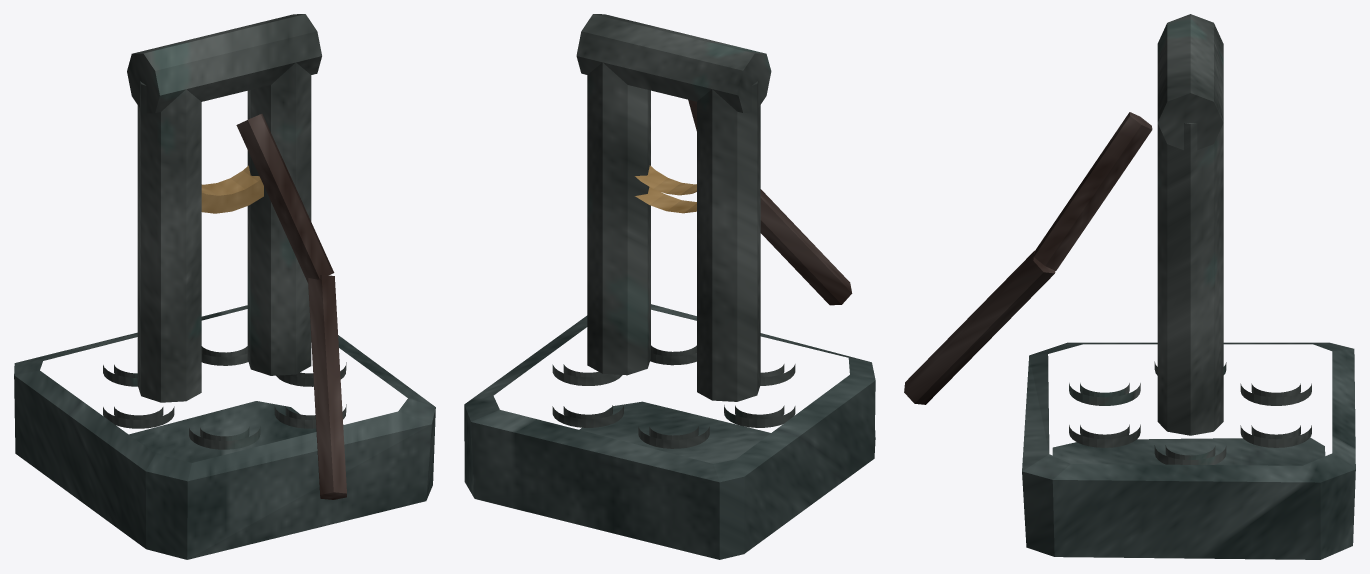
The model's file is 0692_rope_anchor_17.glb.
3 views of the same model, side by side, from view 1: azimuth 30°, elevation 25°; view 2: azimuth 150°, elevation 25°; view 3: azimuth 270°, elevation 25° (orthographic).
Parts seen in each view (by area): view 1: iron, stone_dark, wood_dark, brass; view 2: iron, stone_dark, wood_dark, brass; view 3: stone_dark, iron, wood_dark.
Boxes of the visible parts, left/top/right/bottom form: iron: left=103, top=14, right=346, bottom=449; stone_dark: left=14, top=305, right=435, bottom=559; wood_dark: left=236, top=114, right=346, bottom=499; brass: left=201, top=165, right=263, bottom=213; iron: left=552, top=14, right=795, bottom=448; stone_dark: left=464, top=304, right=875, bottom=559; wood_dark: left=688, top=99, right=852, bottom=305; brass: left=635, top=165, right=696, bottom=213; stone_dark: left=1022, top=342, right=1355, bottom=559; iron: left=1069, top=14, right=1311, bottom=464; wood_dark: left=904, top=112, right=1152, bottom=404.
Bounding box in the file's own units: 1.2 × 1.78 × 1.64.
4 materials, 4 textured.
